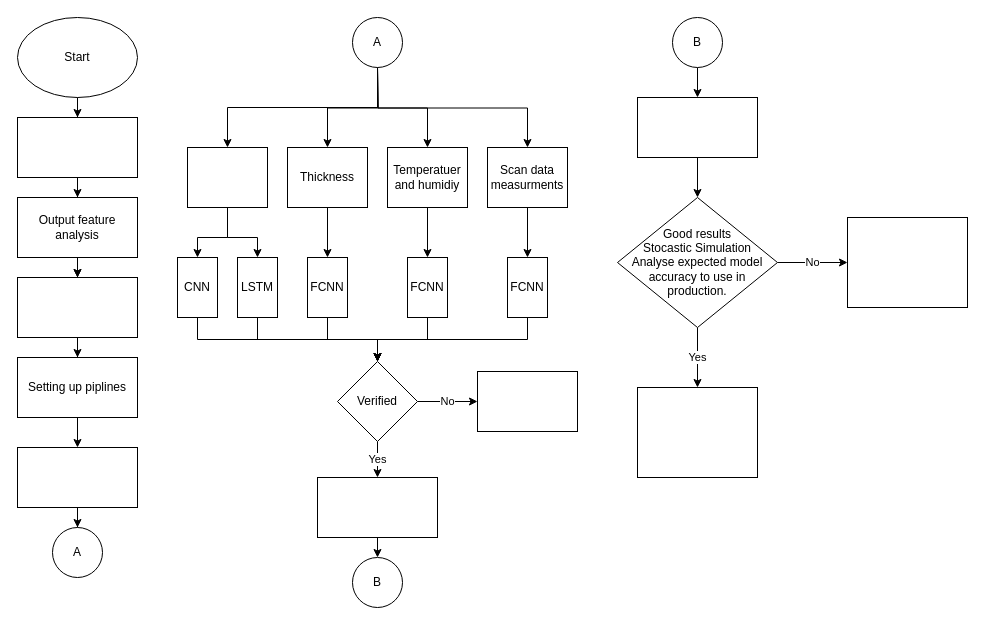
Image size: 985x625. Some labels were removed from this diagram. Here are the shapes that lost their labels. From the top down, the centre of each, then its label:
At (77,147): "Problem understanding and formulation".
At (697,127): "Test of final model".
At (227,177): "3D images".
At (907,262): "Suggestions for future research".
At (77,307): "Data gathering in production".
At (527,401): "Do not include data in final model".
At (697,432): "Build decision scheme for use in production with Radiometer".
At (77,477): "Individual data analysis - Data driven - Binary classification".
At (377,507): "Multi-model construction".
